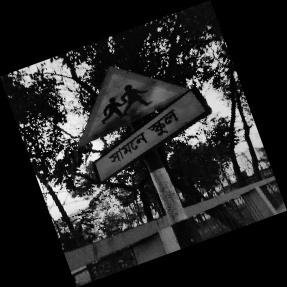School-in-front: (78, 66, 208, 187)
